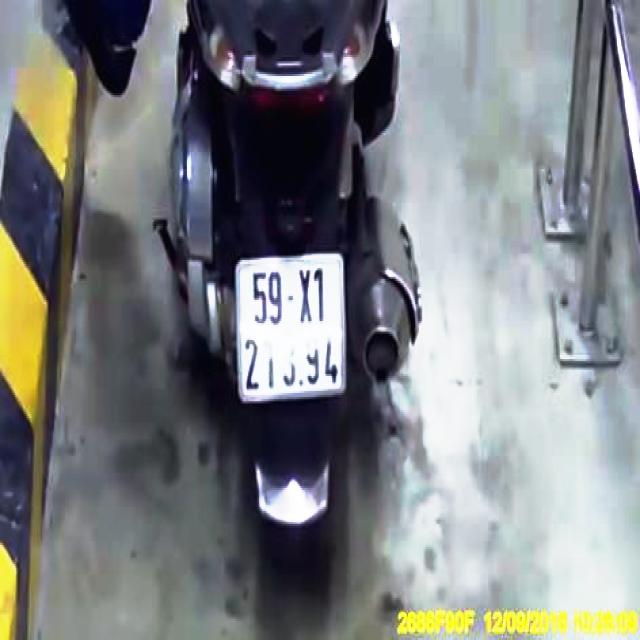license_plate: (242, 255, 346, 399)
